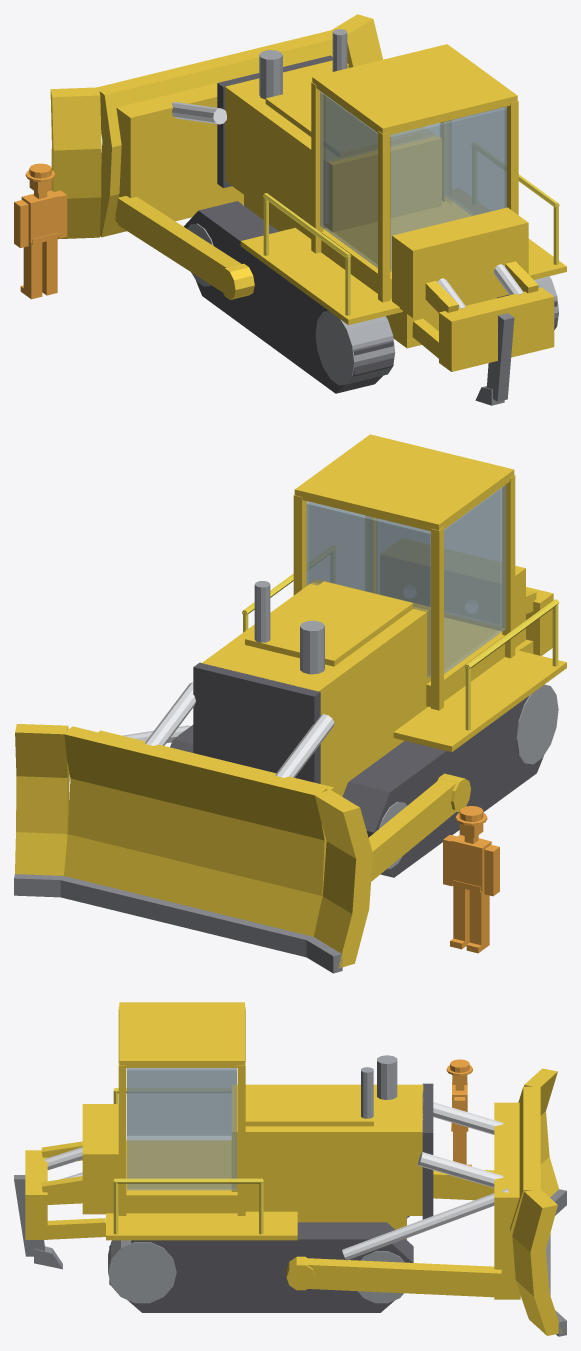
File: dozer.glb
3 views of the same model, one above another, from view 1: azimuth 30°, elevation 25°; view 2: azimuth 150°, elevation 25°; view 3: azimuth 270°, elevation 25° (orthographic). The views are drawn at different scales.
Parts seen in each view (by area): view 1: blade, cab_rops, cab_glass, engine_hood, crawler_tracks, fuel_tank, ripper, main_frame, push_arms, scale_figure, sprockets_idlers, handrails (+5 smaller); view 2: blade, engine_hood, cab_rops, cab_glass, crawler_tracks, radiator_guard, main_frame, cutting_edge, scale_figure, push_arms, hydraulic_cylinders, sprockets_idlers (+4 smaller); view 3: engine_hood, cab_rops, crawler_tracks, cab_glass, blade, push_arms, main_frame, ripper, sprockets_idlers, hydraulic_cylinders, fuel_tank, exhaust_precleaner (+6 smaller).
Part boxes in pixels (x1,y1,x2,y2): blade: (50,14,382,239); cab_rops: (311,44,518,302); cab_glass: (320,91,506,271); engine_hood: (225,60,441,238); crawler_tracks: (183,201,557,393); fuel_tank: (392,207,528,317); ripper: (412,261,554,371); main_frame: (240,195,566,348); push_arms: (117,196,254,299); scale_figure: (14,163,67,299); sprockets_idlers: (187,223,558,385); handrails: (263,174,559,315); blade: (15,724,372,968); engine_hood: (202,579,430,785); cab_rops: (293,434,515,710); cab_glass: (306,485,506,677); crawler_tracks: (170,695,543,877); radiator_guard: (193,662,320,783); main_frame: (327,649,566,796); cutting_edge: (14,874,342,973); scale_figure: (443,806,499,953); push_arms: (368,773,470,881); hydraulic_cylinders: (123,682,334,777); sprockets_idlers: (379,684,558,869); engine_hood: (231,1084,423,1215); cab_rops: (118,1002,245,1215); crawler_tracks: (109,1216,413,1312); cab_glass: (127,1068,236,1190); blade: (494,1068,562,1335); push_arms: (286,1170,501,1297); main_frame: (106,1140,406,1240); ripper: (25,1141,105,1239); sprockets_idlers: (108,1216,408,1303); hydraulic_cylinders: (342,1102,508,1260); fuel_tank: (82,1104,118,1214); exhaust_precleaner: (361,1055,397,1118).
Size of the model in its own units: 6.35 by 3.98 by 8.36.
